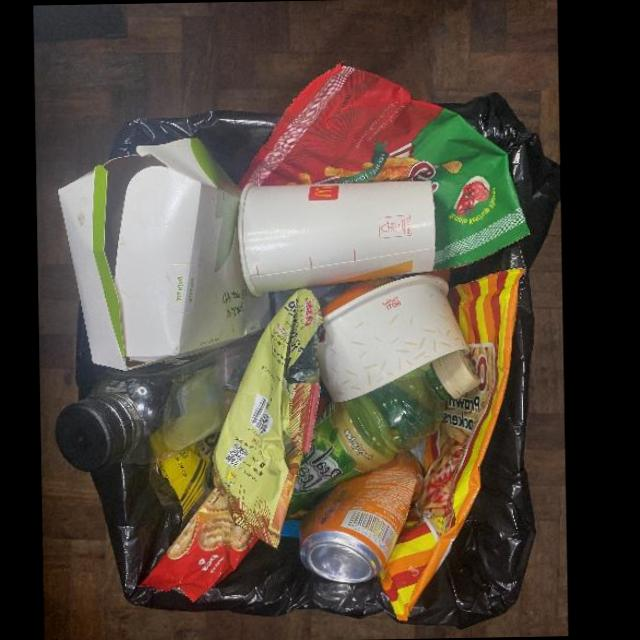bao_bi_thuc_pham: (239, 59, 529, 272), (381, 268, 524, 620), (213, 289, 322, 546), (135, 485, 256, 603), (146, 432, 218, 541)
carton: (57, 136, 296, 375), (235, 177, 435, 296), (318, 274, 468, 403)
chai_nhua: (285, 349, 485, 520)
chai_nhua_pet: (54, 329, 262, 474)
nhom: (299, 449, 422, 581)
